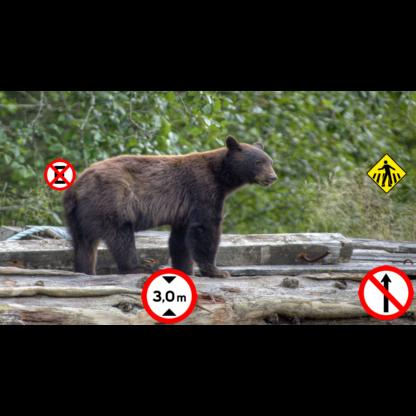A-32b: (366, 153, 407, 194)
R-15: (141, 268, 197, 323)
R-3: (358, 265, 414, 320)
R-6c: (44, 159, 76, 191)
